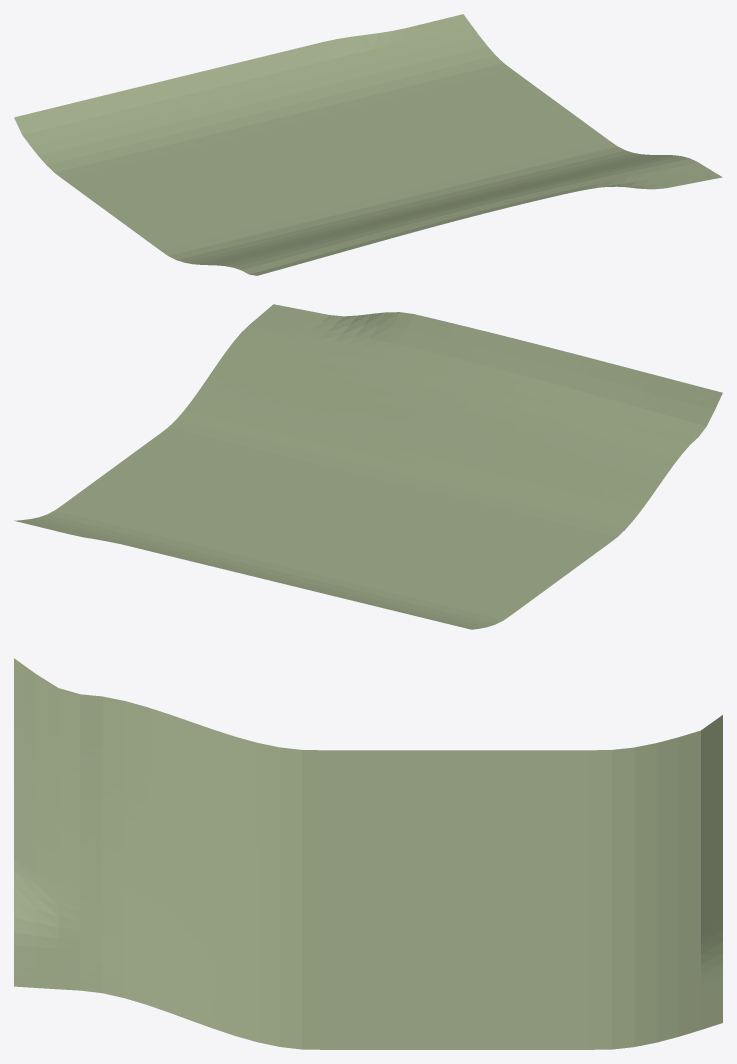
File: railway-2-1.glb
The picture shows the model from 3 angles, top to bottom: view 1: azimuth 30°, elevation 25°; view 2: azimuth 150°, elevation 25°; view 3: azimuth 270°, elevation 25°; orthographic projection. The views are drawn at different scales.
Parts seen in each view (by area): view 1: railway-2-1; view 2: railway-2-1; view 3: railway-2-1.
Part boxes in pixels (left/top/right/bottom): railway-2-1: left=14, top=14, right=722, bottom=275; railway-2-1: left=14, top=304, right=722, bottom=629; railway-2-1: left=14, top=658, right=722, bottom=1049.
Size of the model in its own units: 128 by 19.32 by 128.
